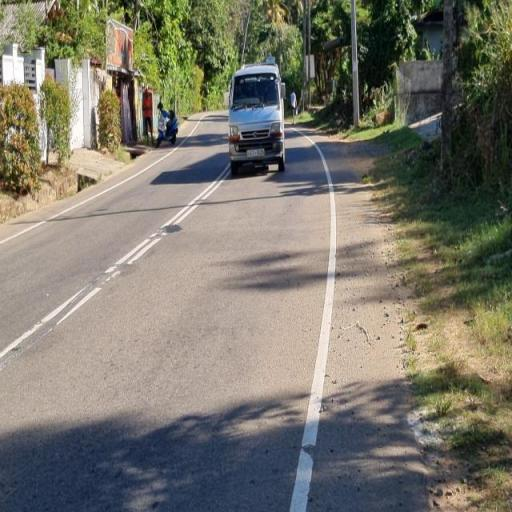double_white_line: (106, 165, 231, 281)
